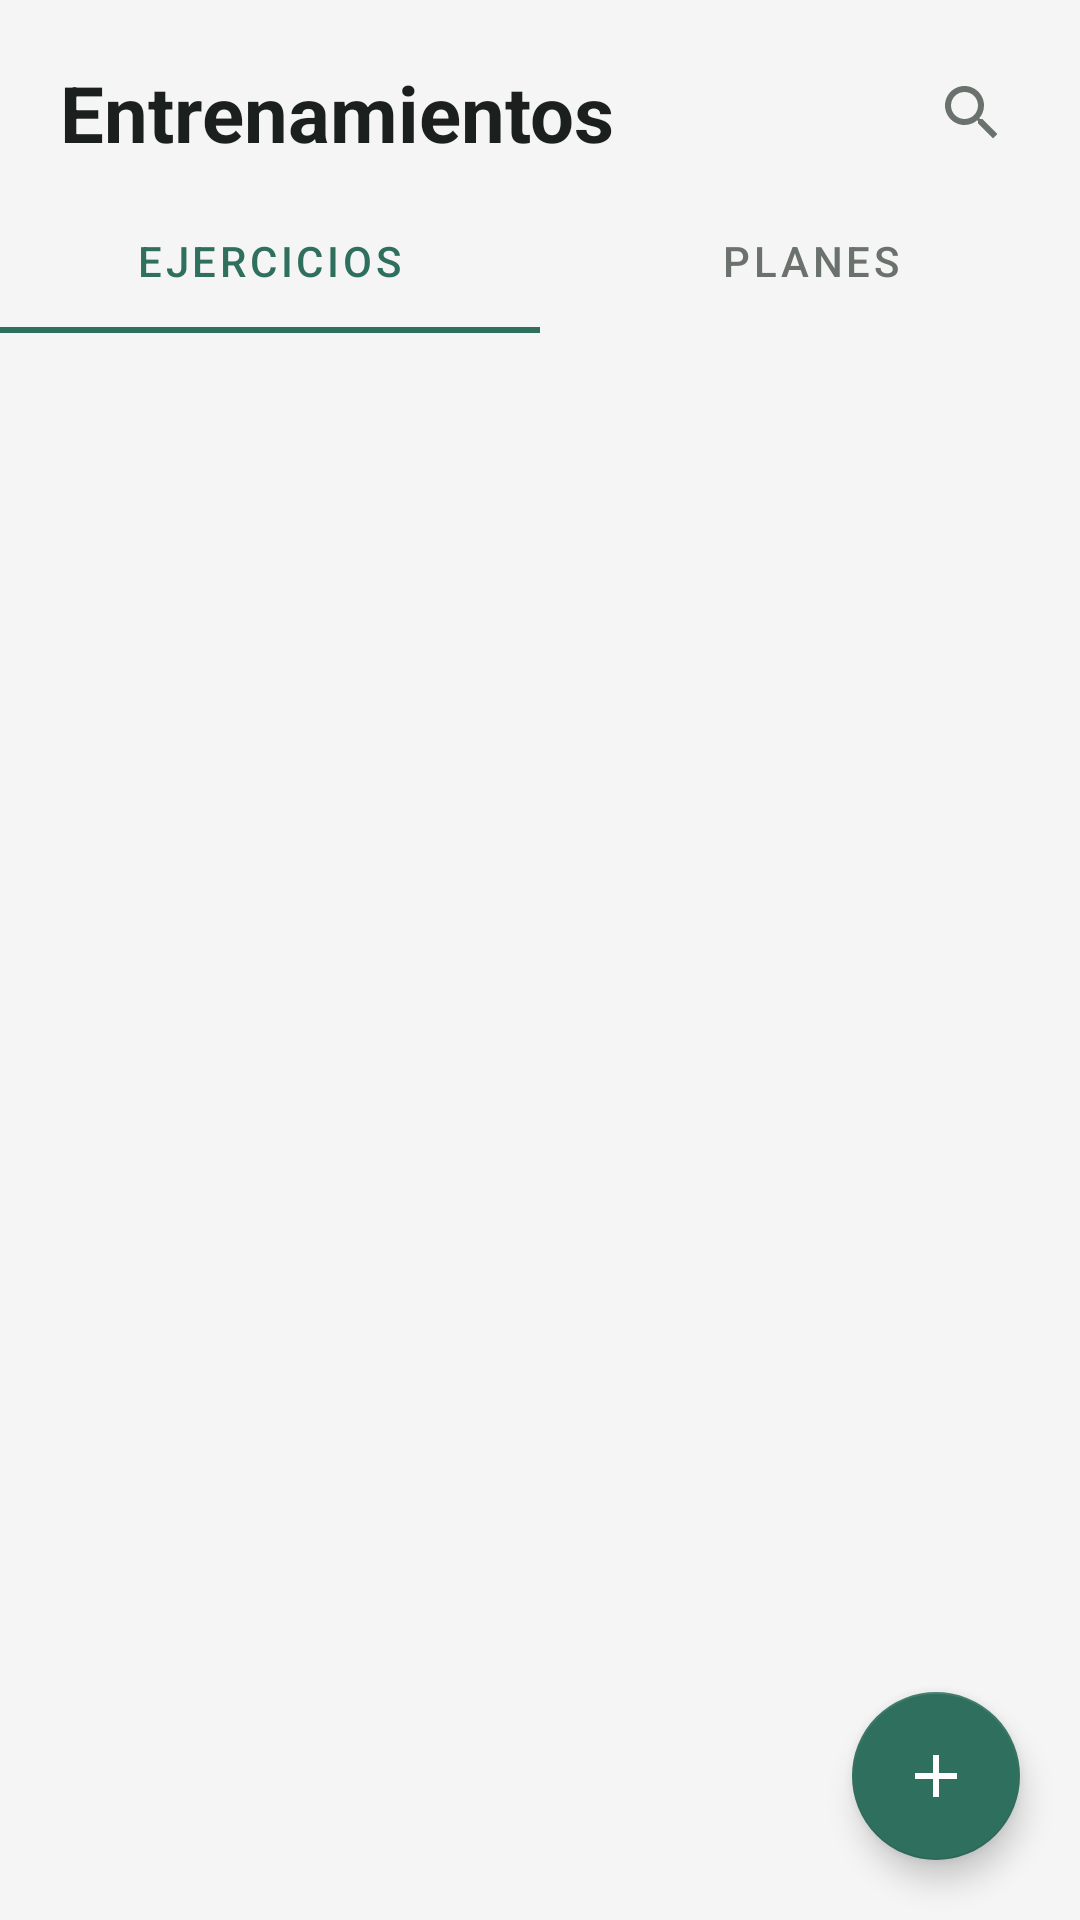

Locate icon controls on the screen. Image size 1080x1920, boxes as Rect(x1, y1, x2, y2).
add: Rect(852, 1692, 1020, 1860)
search: Rect(945, 86, 997, 138)
